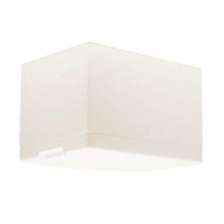foam_box: (11, 39, 209, 181)
